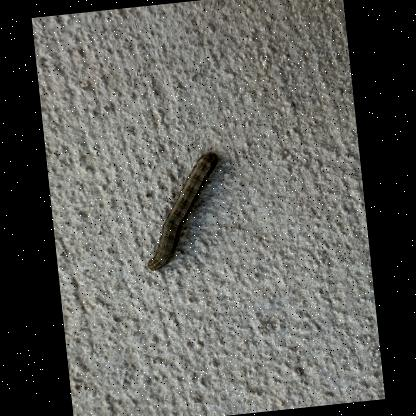Fall Armyworm Larvae: (134, 148, 232, 272)
